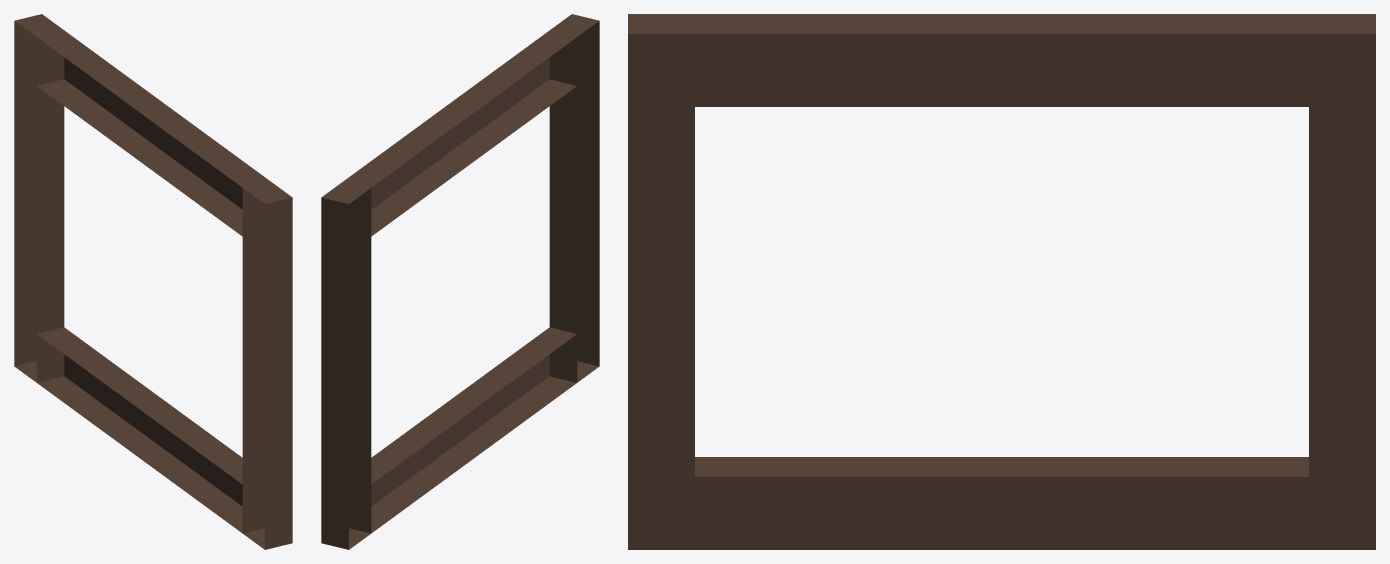
File: keep-wd02_59.obj
3 renders of one model, left to right at view 1: azimuth 30°, elevation 25°; view 2: azimuth 150°, elevation 25°; view 3: azimuth 270°, elevation 25°, orthographic. The views are drawn at different scales.
Size of the model in its own units: 0.03 by 0.3593 by 0.4721.
1 material, 1 textured.
